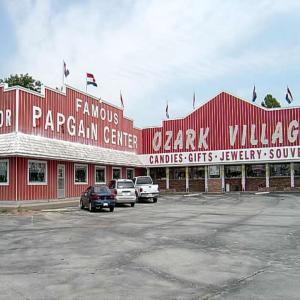Vehicle-registration-plate: (104, 203, 110, 208)
